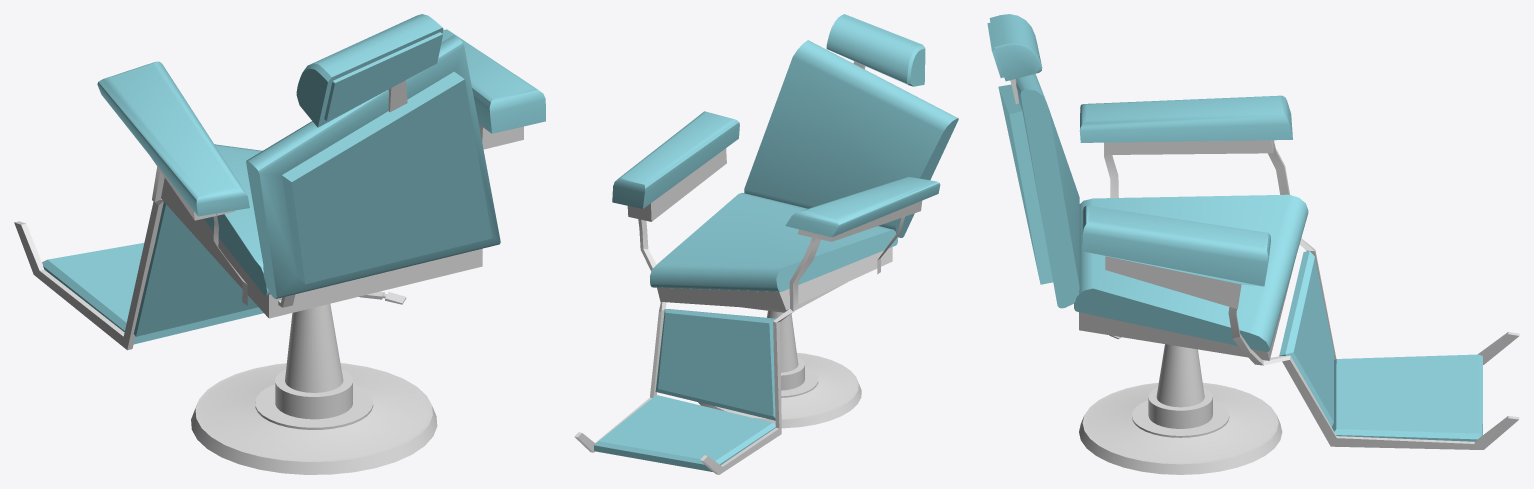
File: Barbershop Chair  Ver 2 01.fbx
3 views of the same model, side by side, from view 1: azimuth 30°, elevation 25°; view 2: azimuth 150°, elevation 25°; view 3: azimuth 270°, elevation 25° (orthographic). The views are drawn at different scales.
Visible parts, largest first — view 1: Barber Chair ver 2; view 2: Barber Chair ver 2; view 3: Barber Chair ver 2.
Boxes of the visible parts, x1,y1,x2,y2 form: Barber Chair ver 2: (14,14,545,474); Barber Chair ver 2: (574,14,958,474); Barber Chair ver 2: (987,14,1519,474).
Size of the model in its own units: 211 by 257 by 315.
